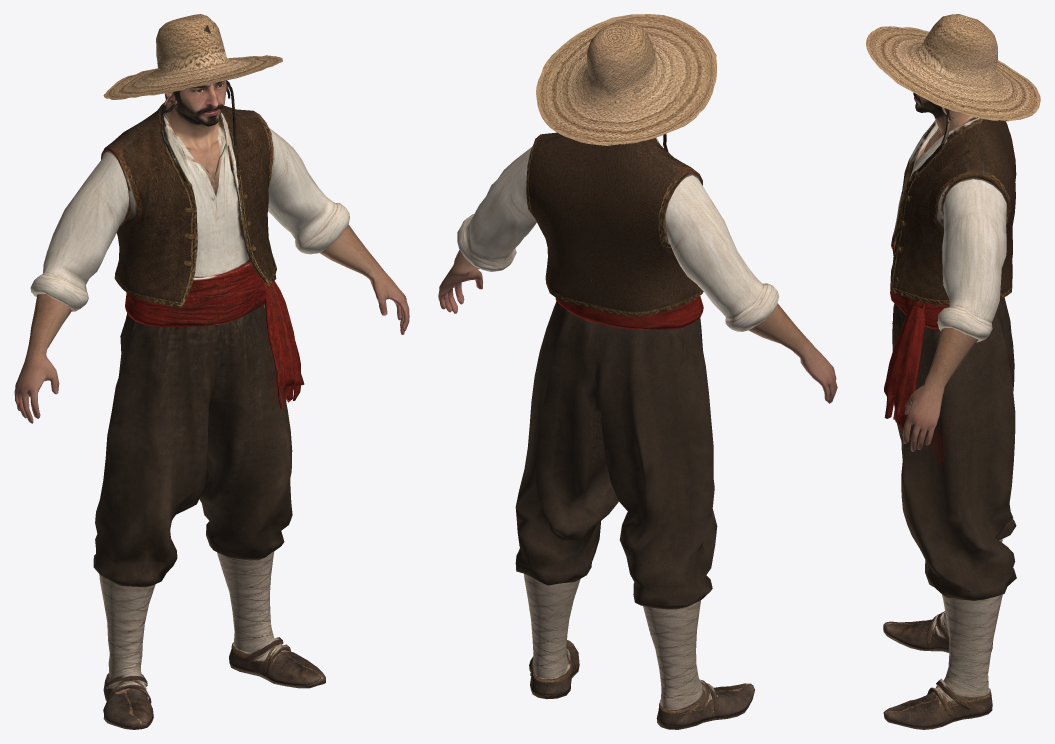
Rendered from Meshy_AI_model.glb.
3 views of the same model, side by side, from view 1: azimuth 30°, elevation 25°; view 2: azimuth 150°, elevation 25°; view 3: azimuth 270°, elevation 25° (orthographic). The views are drawn at different scales.
Bounding box in the file's own units: 0.6083 × 1 × 0.2403.
Materials: 1 (1 with a texture image).
